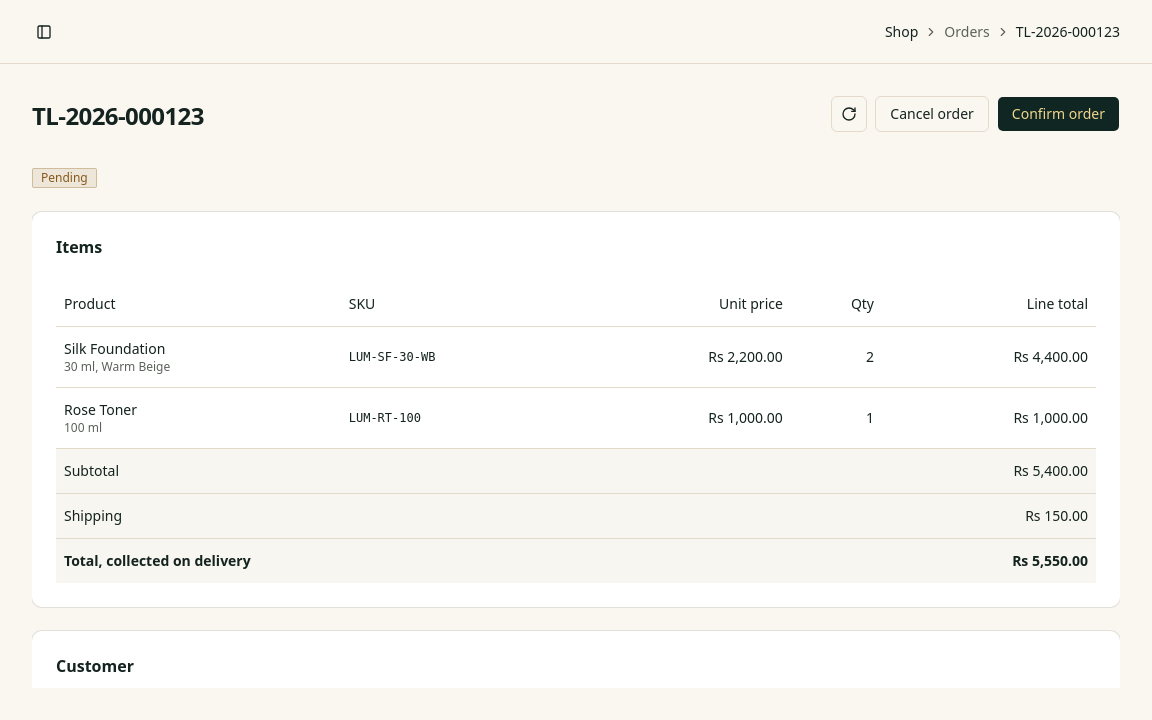
it: order actions › shows the order the API returns after a move, without fetching it again
Click the button "Confirm order". click: (1058, 114)
box: [997,96,1120,132]
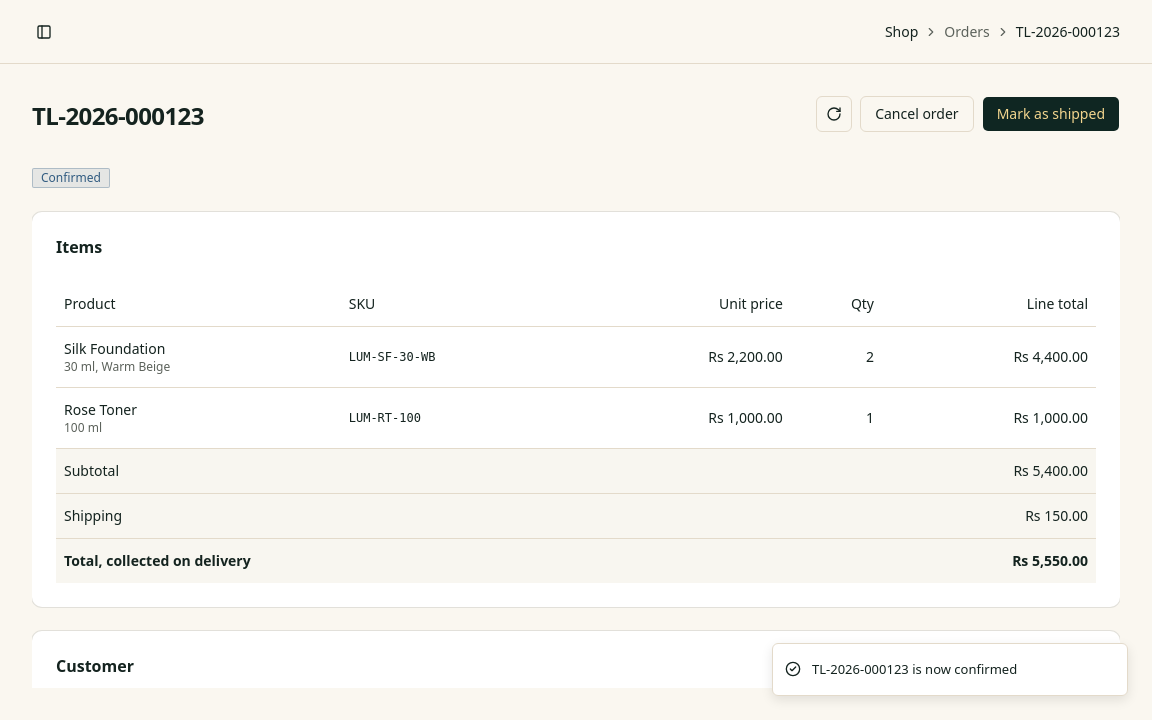
Expected: the button "Mark as shipped" is shown, [982,96,1120,132]
Expected: the text "TL-2026-000123 is now confirmed" is shown, [812,660,1017,679]
